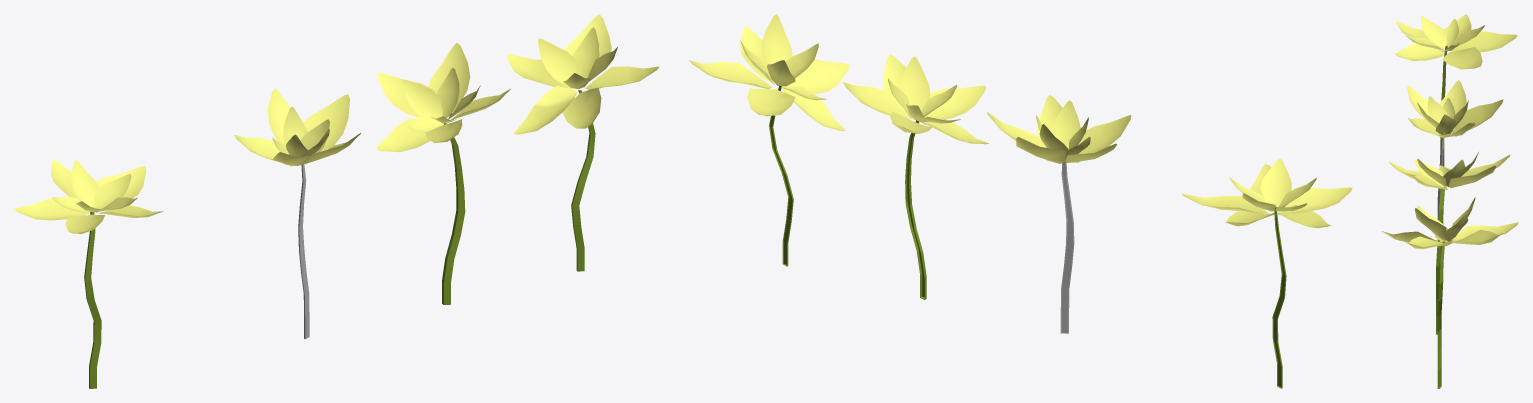
Rendered from Flowers.fbx.
The picture shows the model from 3 angles, left to right: view 1: azimuth 30°, elevation 25°; view 2: azimuth 150°, elevation 25°; view 3: azimuth 270°, elevation 25°; orthographic projection. The views are drawn at different scales.
Visible parts, largest first — view 1: Flower_v4, Flower_v3, Flower_v1, Flower_v2; view 2: Flower_v4, Flower_v3, Flower_v2, Flower_v1; view 3: Flower_v1, Flower_v2, Flower_v4, Flower_v3.
Part boxes in pixels (x1,y1,x2,y2): Flower_v4: (507,14,659,271); Flower_v3: (376,43,510,304); Flower_v1: (14,159,163,388); Flower_v2: (234,88,360,339); Flower_v4: (689,14,849,266); Flower_v3: (843,54,988,299); Flower_v2: (987,95,1131,333); Flower_v1: (1182,158,1352,388); Flower_v1: (1395,14,1517,166); Flower_v2: (1407,80,1503,219); Flower_v4: (1382,197,1518,388); Flower_v3: (1389,152,1509,334).
Size of the model in its own units: 5.82 by 2.09 by 1.38.
